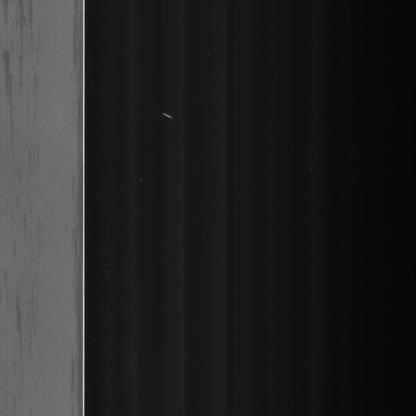water_spot: (2, 3, 44, 344), (68, 4, 83, 412)
